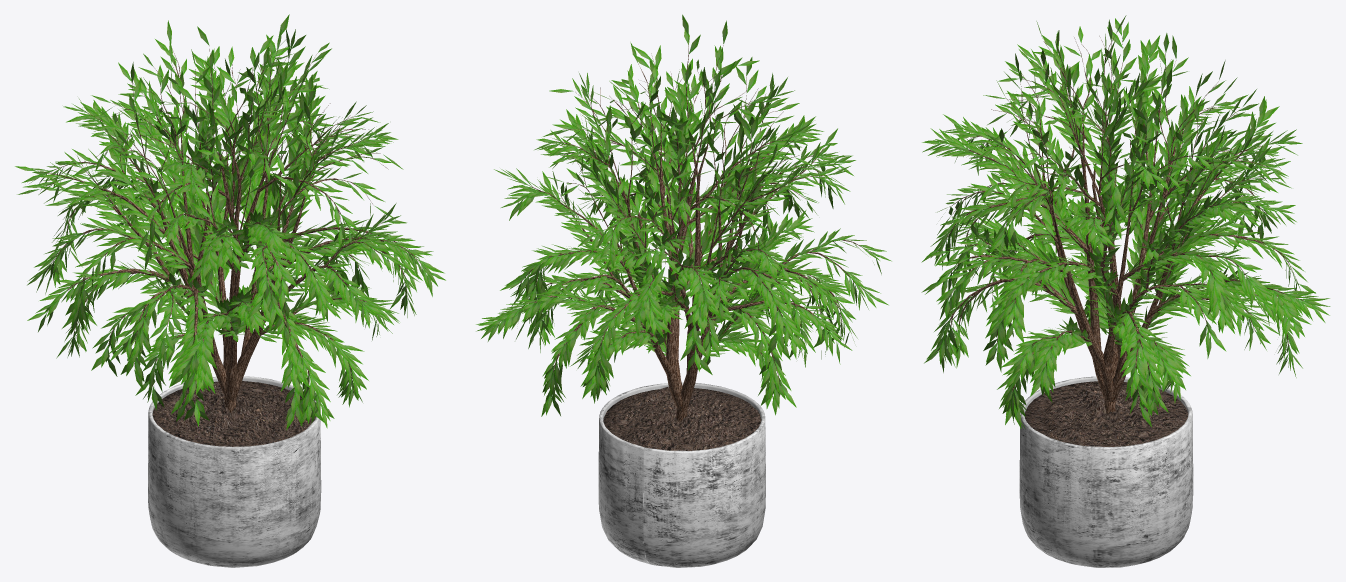
File: pine.glb
3 renders of one model, left to right at view 1: azimuth 30°, elevation 25°; view 2: azimuth 150°, elevation 25°; view 3: azimuth 270°, elevation 25°, orthographic. The views are drawn at different scales.
Visible parts, largest first — view 1: leaves, G-AUL10_0, tree; view 2: leaves, G-AUL10_0, tree; view 3: leaves, G-AUL10_0, tree.
Part boxes in pixels (box(x1,y1,x2,y2)): leaves: box(15, 14, 445, 430); G-AUL10_0: box(148, 376, 321, 567); tree: box(38, 46, 429, 412); leaves: box(476, 14, 891, 416); G-AUL10_0: box(598, 382, 765, 567); tree: box(515, 36, 871, 421); leaves: box(921, 15, 1330, 428); G-AUL10_0: box(1019, 376, 1193, 567); tree: box(940, 36, 1303, 413).
Bounding box in the file's own units: 4.07 × 5.9 × 4.16.
4 materials, 4 textured.
